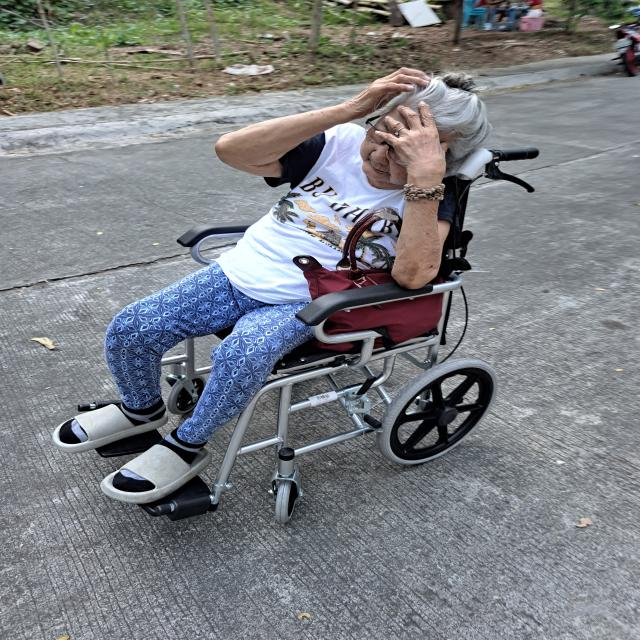wheelchairs: (99, 146, 556, 523)
